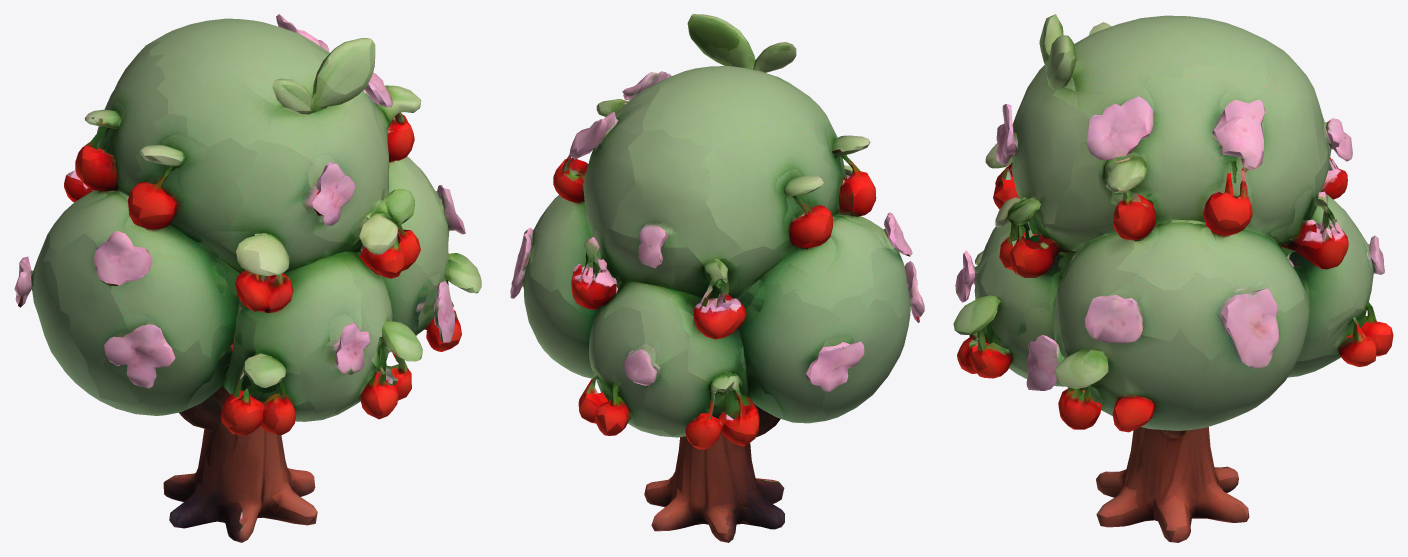
Rendered from fruit_tree_cherry.glb.
The picture shows the model from 3 angles, left to right: view 1: azimuth 30°, elevation 25°; view 2: azimuth 150°, elevation 25°; view 3: azimuth 270°, elevation 25°; orthographic projection. The views are drawn at different scales.
Parts seen in each view (by area): view 1: fruit_tree_cherry_s71; view 2: fruit_tree_cherry_s71; view 3: fruit_tree_cherry_s71.
Part boxes in pixels (x1,y1,x2,y2): fruit_tree_cherry_s71: (14,14,481,542); fruit_tree_cherry_s71: (510,14,924,542); fruit_tree_cherry_s71: (953,14,1393,542).
Size of the model in its own units: 0.8313 by 1 by 0.8027.
Materials: 1 (1 with a texture image).
